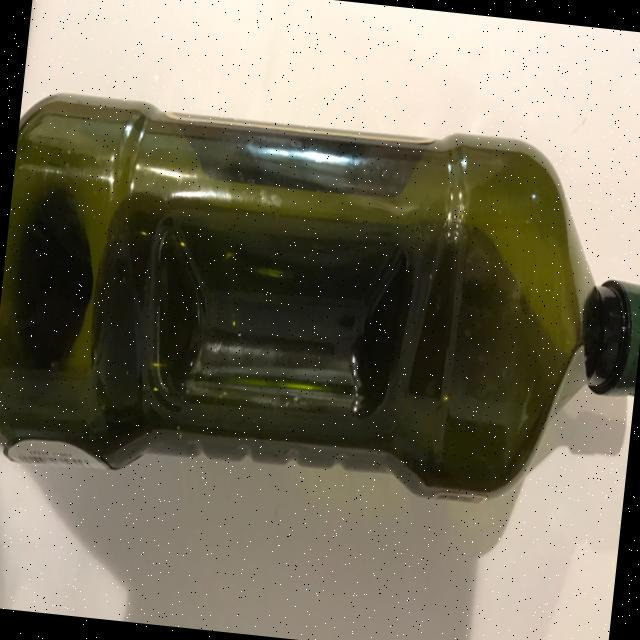plastic: (0, 83, 640, 526)
